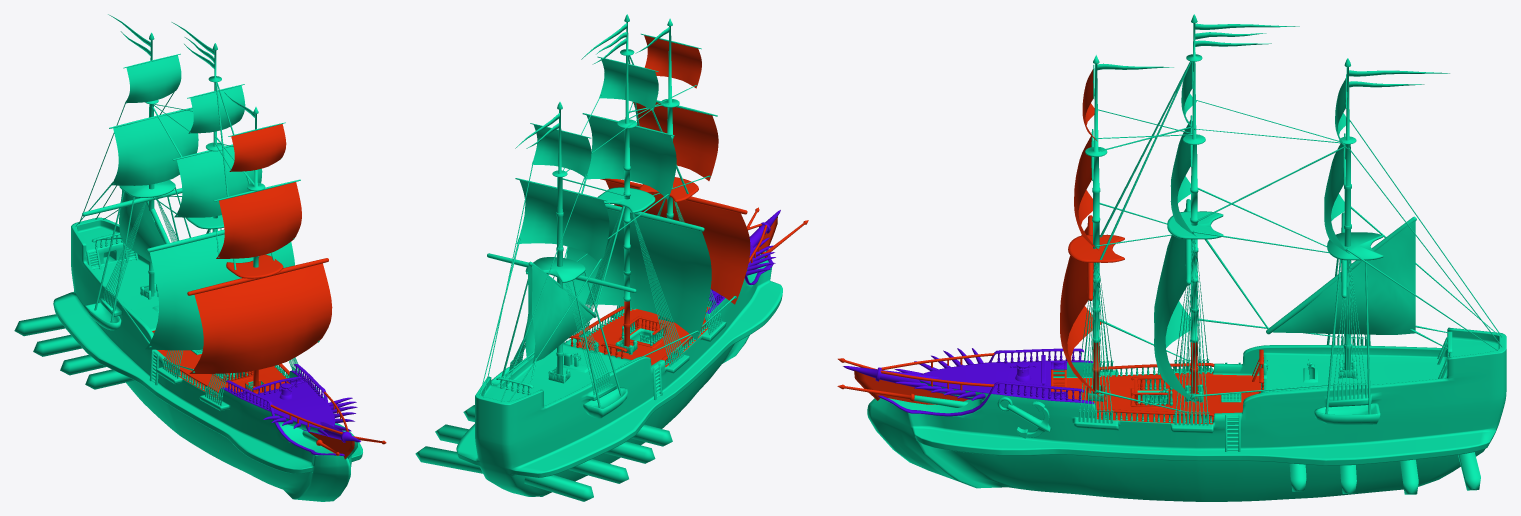
The model's file is andere boot kurwa.fbx.
The picture shows the model from 3 angles, left to right: view 1: azimuth 30°, elevation 25°; view 2: azimuth 150°, elevation 25°; view 3: azimuth 270°, elevation 25°; orthographic projection. The views are drawn at different scales.
Parts seen in each view (by area): view 1: Cylinder.013; view 2: Cylinder.013; view 3: Cylinder.013.
Part boxes in pixels (x1,y1,x2,y2): Cylinder.013: (14, 14, 386, 501); Cylinder.013: (415, 14, 808, 501); Cylinder.013: (837, 14, 1506, 501).
Bounding box in the file's own units: 24.96 × 50.6 × 65.11.
